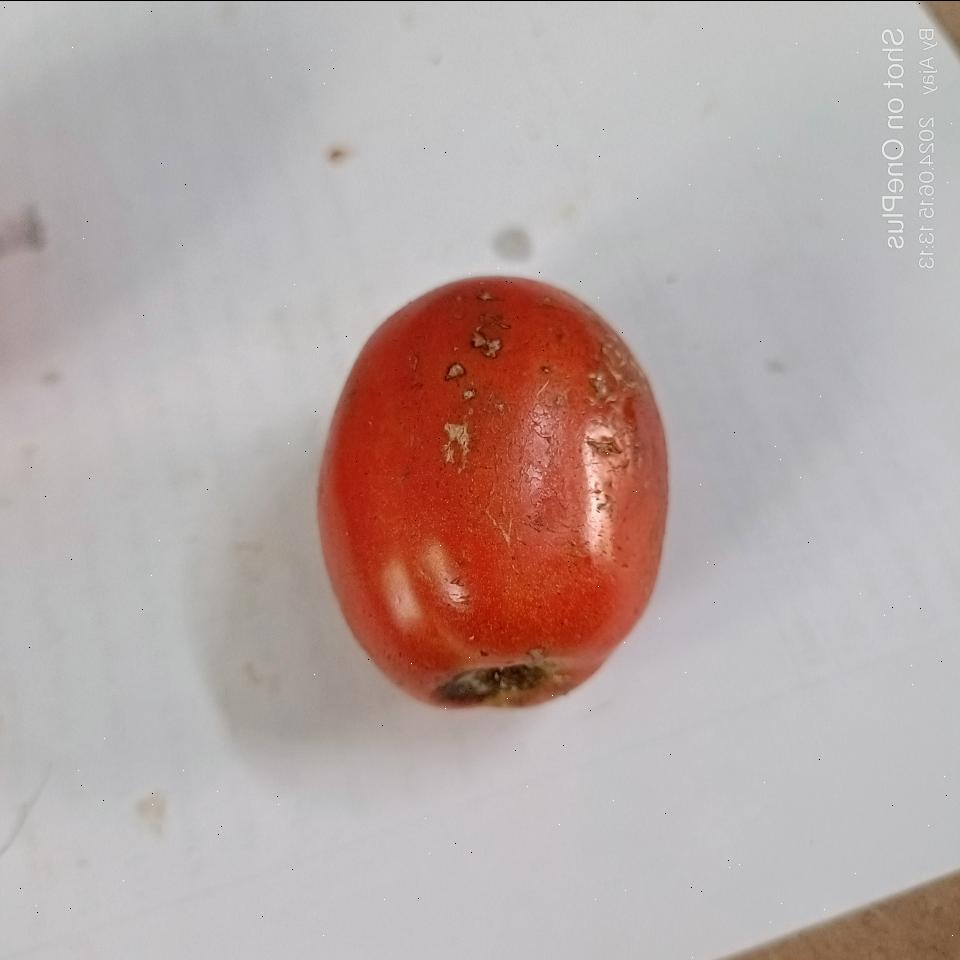Bacterial_Spot: (430, 278, 502, 480), (567, 338, 646, 474)
